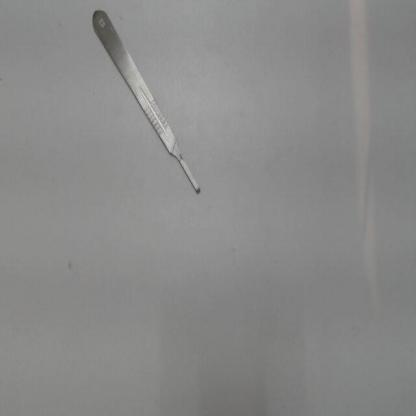No.4 BP Handle: (76, 3, 215, 212)
